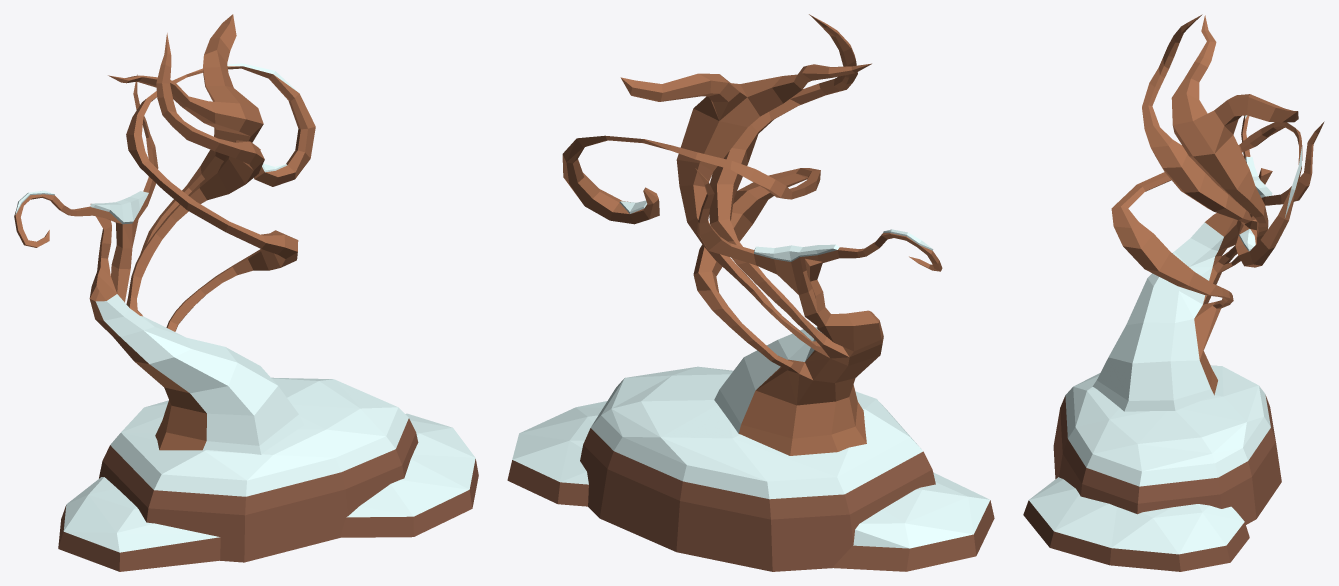
The model's file is Defend_TreeBase.FBX.
3 views of the same model, side by side, from view 1: azimuth 30°, elevation 25°; view 2: azimuth 150°, elevation 25°; view 3: azimuth 270°, elevation 25° (orthographic). The views are drawn at different scales.
Visible parts, largest first — view 1: Defend_Tree; view 2: Defend_Tree; view 3: Defend_Tree.
Boxes of the visible parts, bbox=[...] form: Defend_Tree: bbox=[14, 14, 478, 571]; Defend_Tree: bbox=[507, 14, 994, 571]; Defend_Tree: bbox=[1023, 14, 1324, 571].
Bounding box in the file's own units: 335 × 368 × 232.
